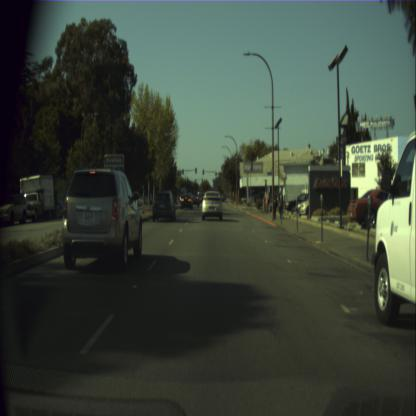Red: (202, 168, 204, 174), (216, 170, 217, 176)
